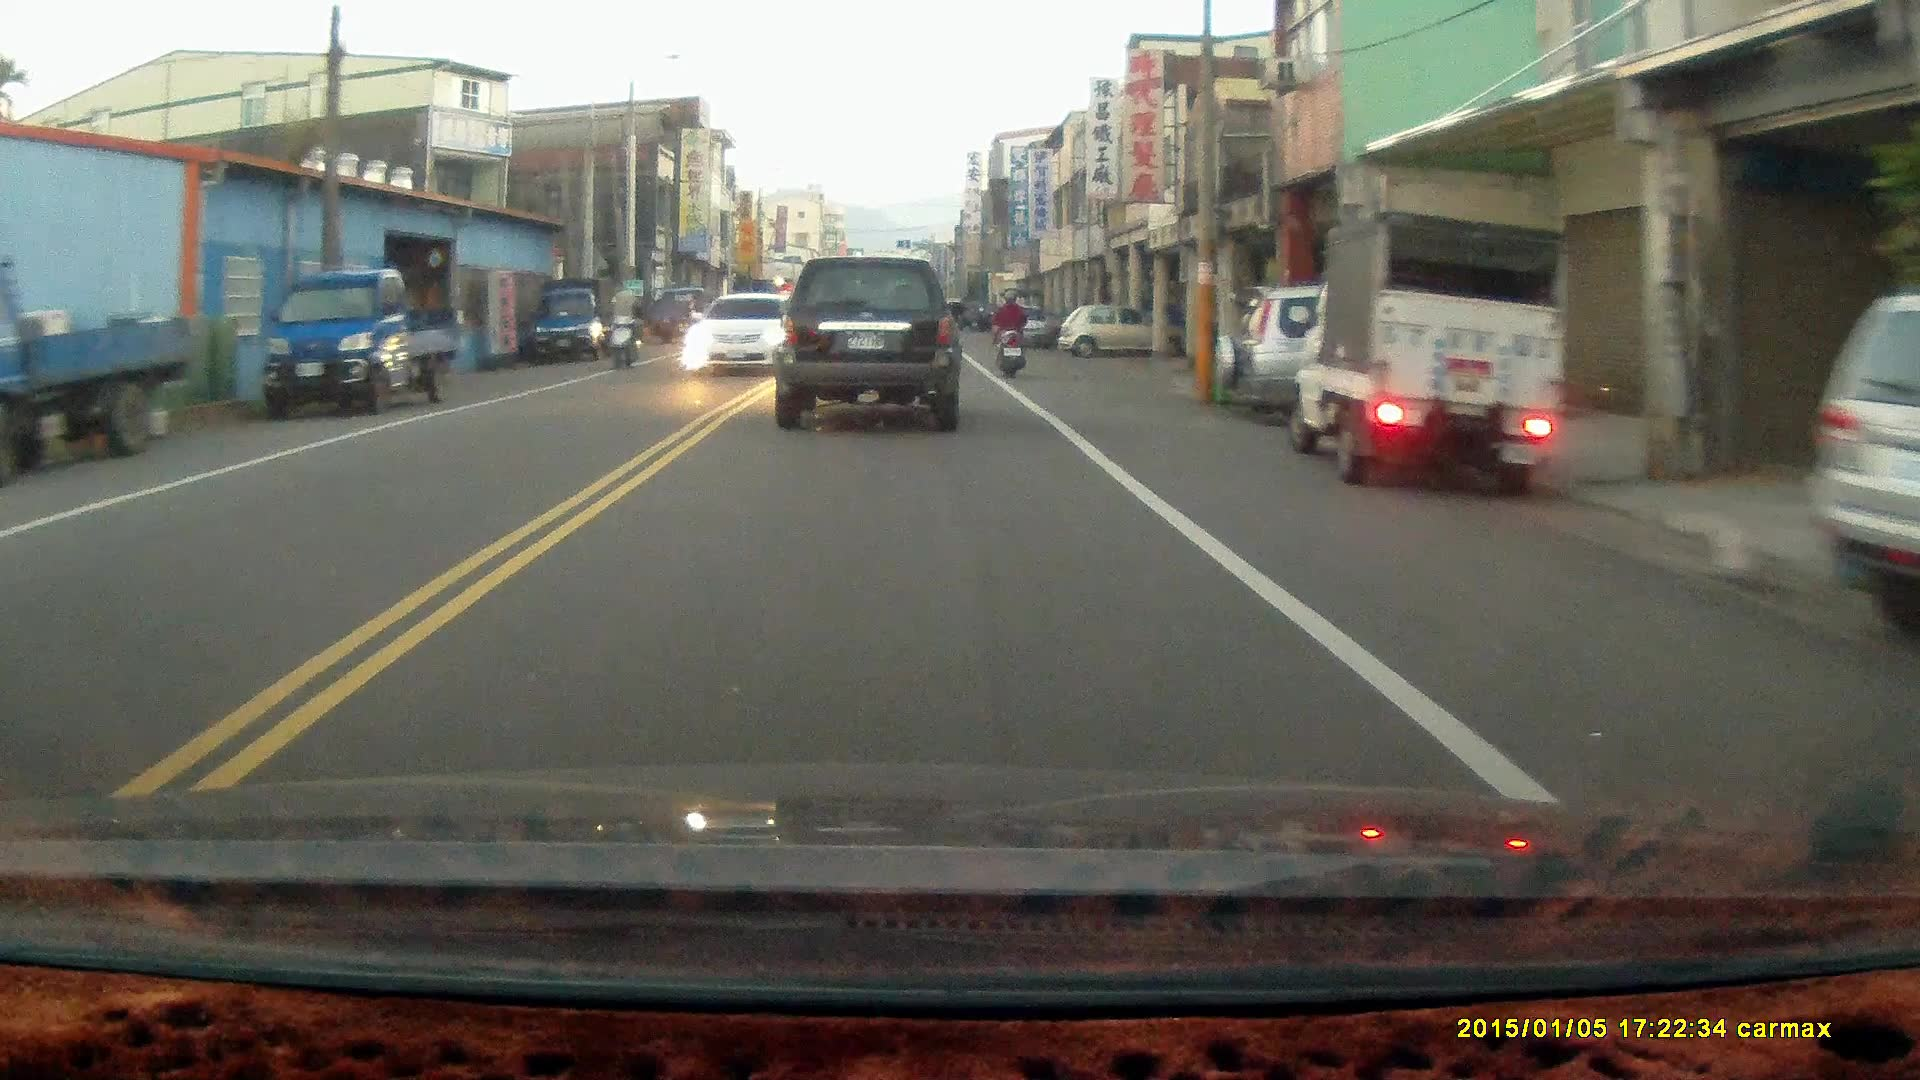rider: (991, 282, 1028, 378), (603, 279, 641, 370)
vehicle: (1288, 212, 1577, 500), (1212, 277, 1560, 429), (1797, 288, 1920, 642), (1, 265, 196, 471), (770, 255, 965, 431), (260, 270, 463, 415), (524, 278, 631, 361), (691, 290, 793, 379), (1063, 305, 1149, 359)
